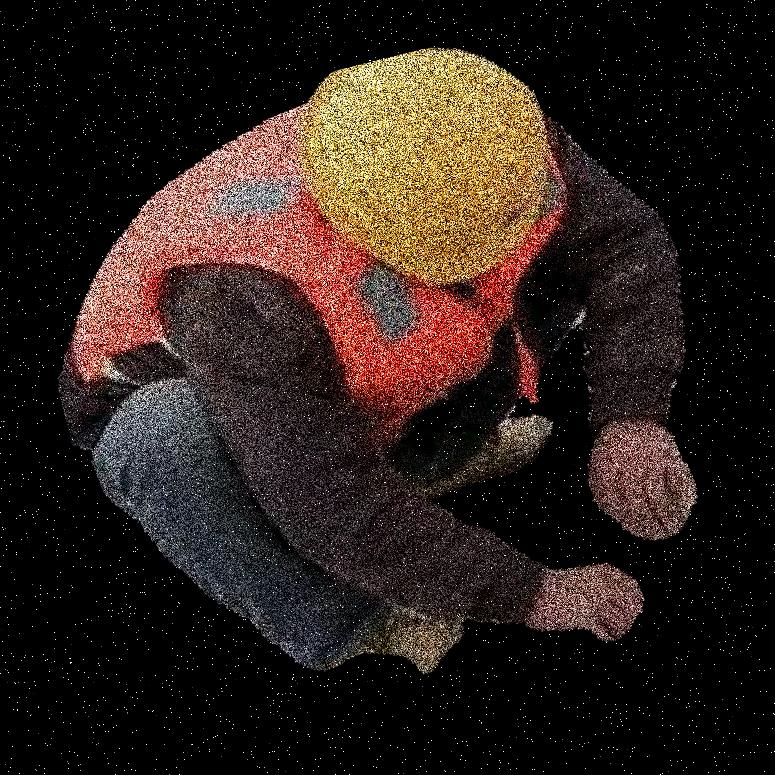Pessoa: (230, 0, 745, 774)
